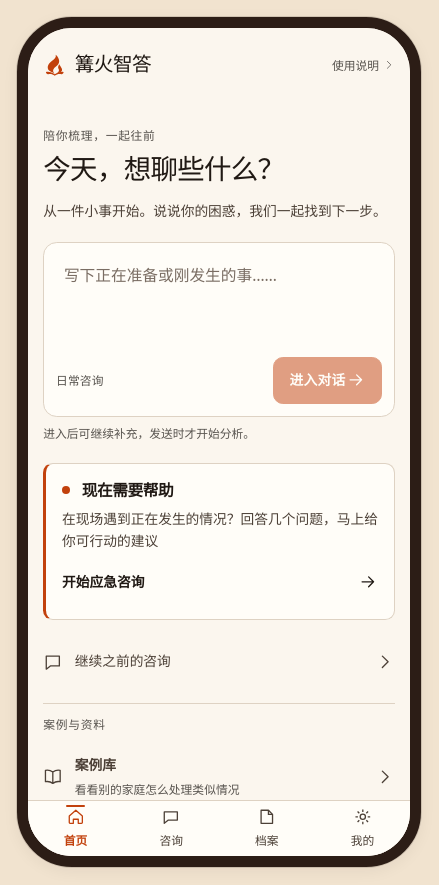
Scenario: 首页 · 咨询入口 › 建会话失败保留草稿与重试入口，不伪装成已发送
The width and height of the screenshot is (439, 885).
Type "需要保留的问题" into the text box named "想聊的事情" at (219, 302), box [56,255,382,349]
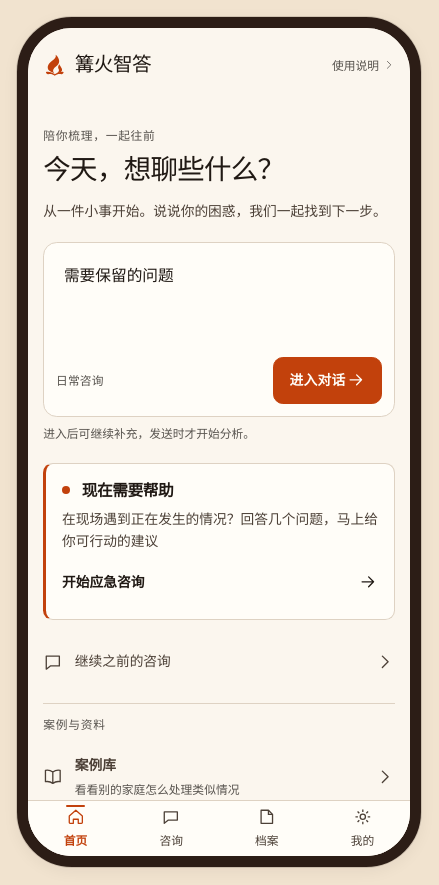
Click the button "进入对话" at (327, 380), box [273,357,382,404]
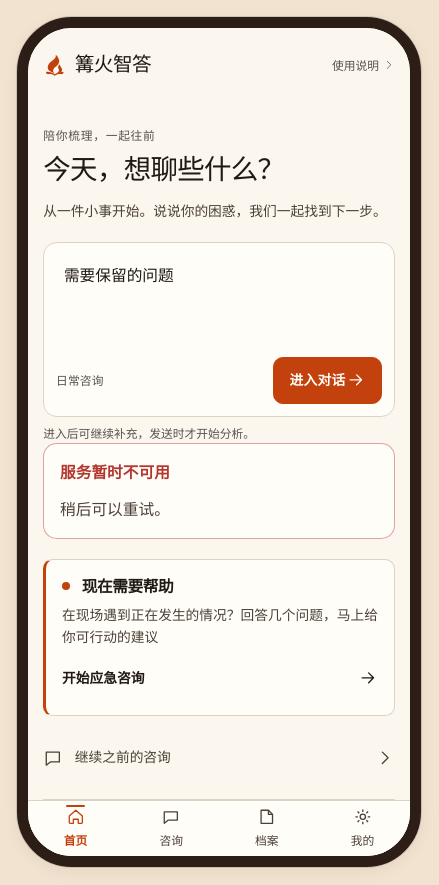
Result: the button "进入对话" is enabled at [273,357,382,404]
Result: the message "服务暂时不可用 稍后可以重试。" is shown at [43,443,395,539]
